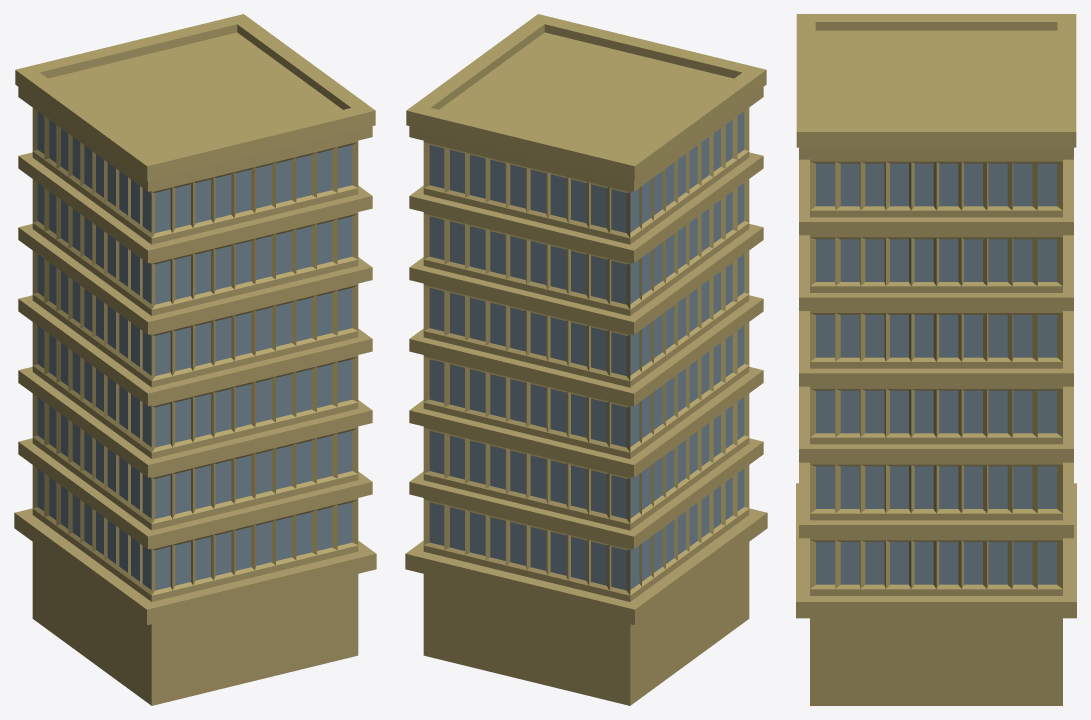
Rendered from flat 4.fbx.
The picture shows the model from 3 angles, left to right: view 1: azimuth 30°, elevation 25°; view 2: azimuth 150°, elevation 25°; view 3: azimuth 270°, elevation 25°; orthographic projection. The views are drawn at different scales.
Visible parts, largest first — view 1: Plane.001; view 2: Plane.001; view 3: Plane.001.
Part boxes in pixels (x1=…): Plane.001: x1=14, y1=14, x2=376, y2=705; Plane.001: x1=405, y1=14, x2=767, y2=705; Plane.001: x1=796, y1=14, x2=1076, y2=705.
Bounding box in the file's own units: 222 × 506 × 222.
